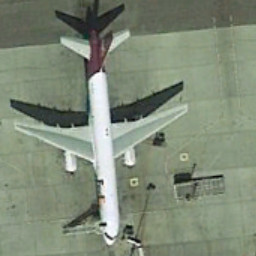Airplane: (9, 26, 193, 250)
